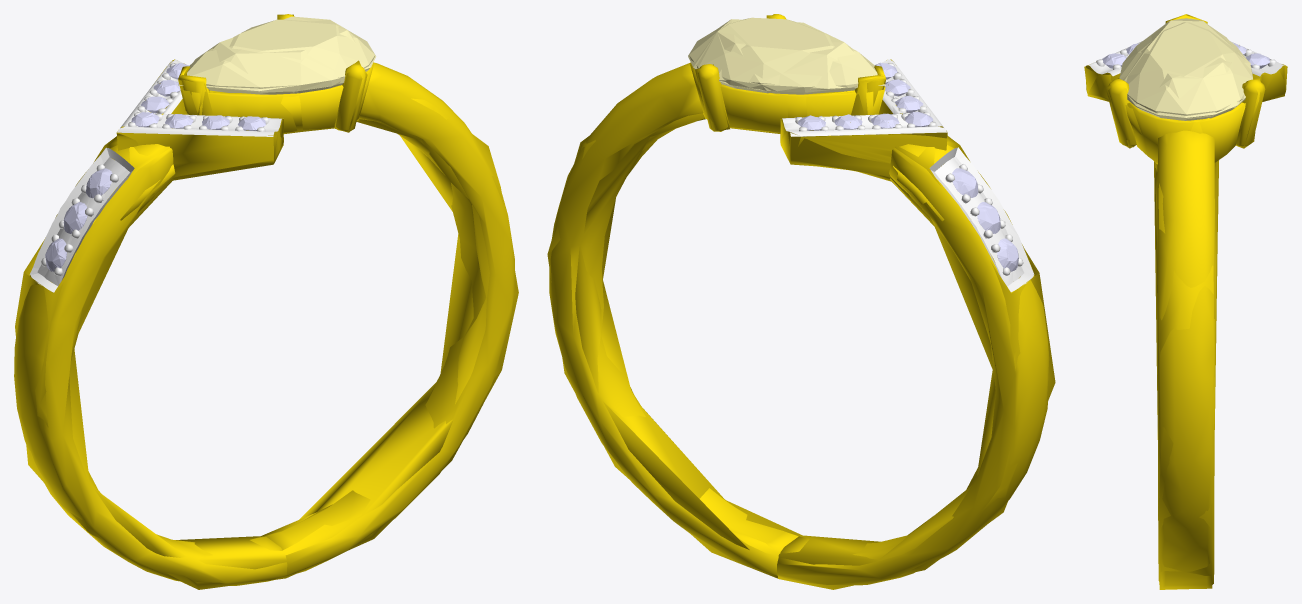
File: DLR-D000284427.glb
3 renders of one model, left to right at view 1: azimuth 30°, elevation 25°; view 2: azimuth 150°, elevation 25°; view 3: azimuth 270°, elevation 25°, orthographic.
Parts seen in each view (by area): view 1: highPolyMesh, lowPolyMesh; view 2: highPolyMesh, lowPolyMesh; view 3: highPolyMesh, lowPolyMesh.
Boxes of the visible parts, left/top/right/bottom form: highPolyMesh: left=14, top=14, right=514, bottom=585; lowPolyMesh: left=15, top=14, right=518, bottom=589; highPolyMesh: left=549, top=14, right=1049, bottom=585; lowPolyMesh: left=547, top=15, right=1055, bottom=589; highPolyMesh: left=1086, top=14, right=1287, bottom=588; lowPolyMesh: left=1084, top=14, right=1284, bottom=589.
Size of the model in its own units: 0.0199 by 0.021 by 0.00736.
